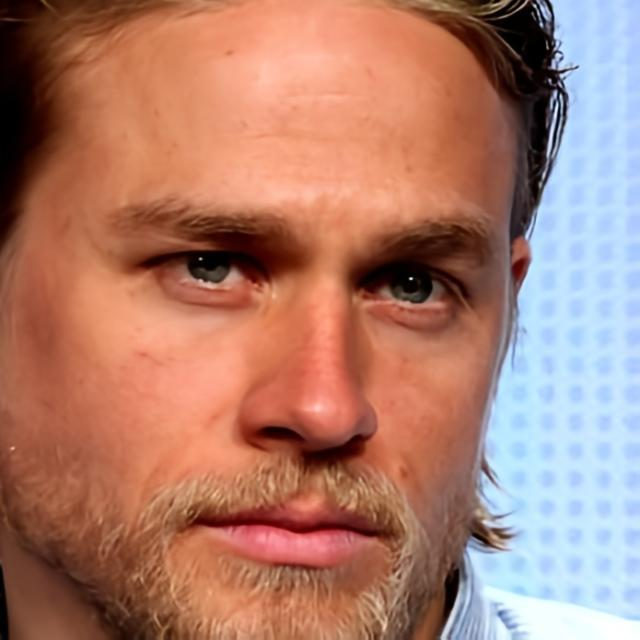anger: (32, 7, 518, 640)
